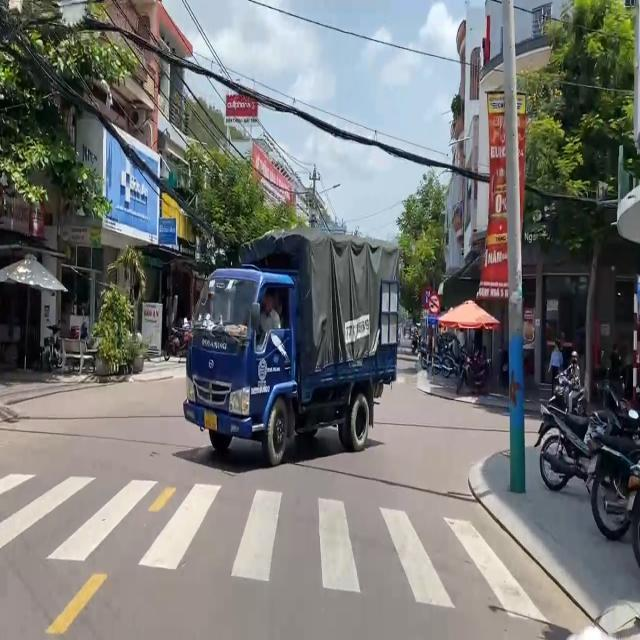walk-crossing: (0, 468, 558, 624)
